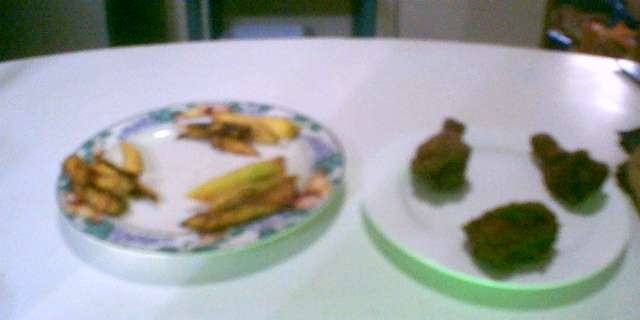chicken: (457, 197, 561, 279), (526, 125, 611, 214), (404, 113, 478, 198)
potatoe_fries: (173, 153, 302, 235), (59, 136, 162, 238), (171, 104, 303, 161)
